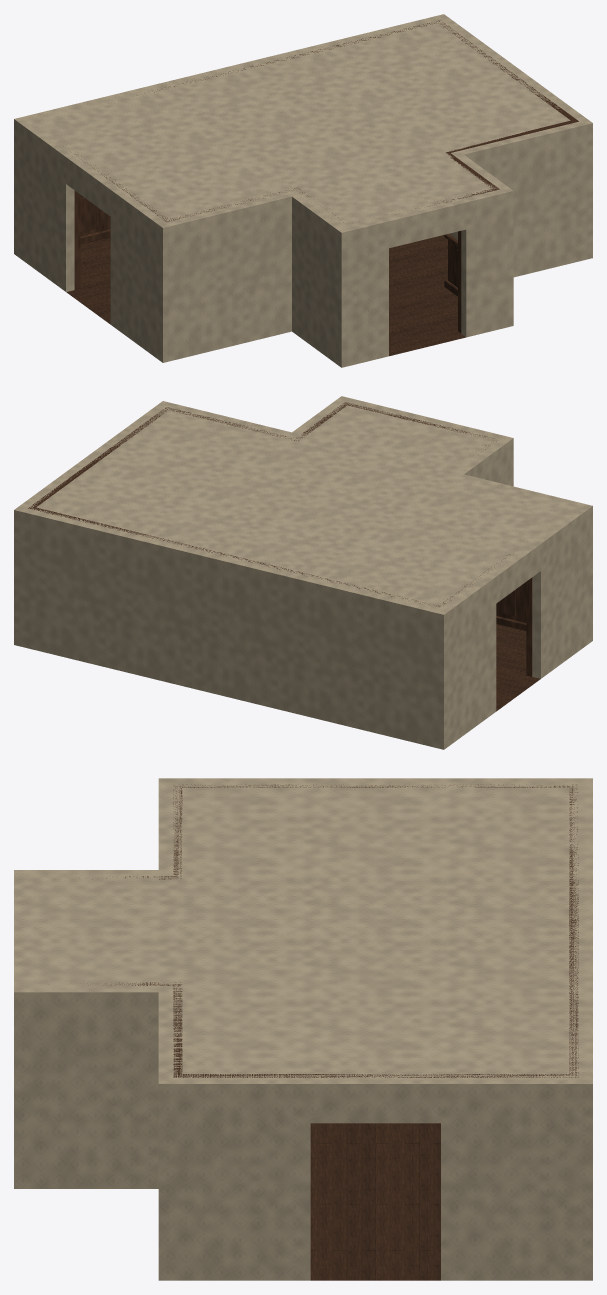
File: TJunction.fbx
3 renders of one model, top to bottom at view 1: azimuth 30°, elevation 25°; view 2: azimuth 150°, elevation 25°; view 3: azimuth 270°, elevation 25°, orthographic. The views are drawn at different scales.
Parts seen in each view (by area): view 1: SM_TJunction.001; view 2: SM_TJunction.001; view 3: SM_TJunction.001.
Part boxes in pixels (x1,y1,x2,y2): SM_TJunction.001: [14, 14, 592, 367]; SM_TJunction.001: [14, 396, 592, 749]; SM_TJunction.001: [14, 778, 592, 1280].
Bounding box in the file's own units: 1000 × 300 × 800.
3 materials, 3 textured.
